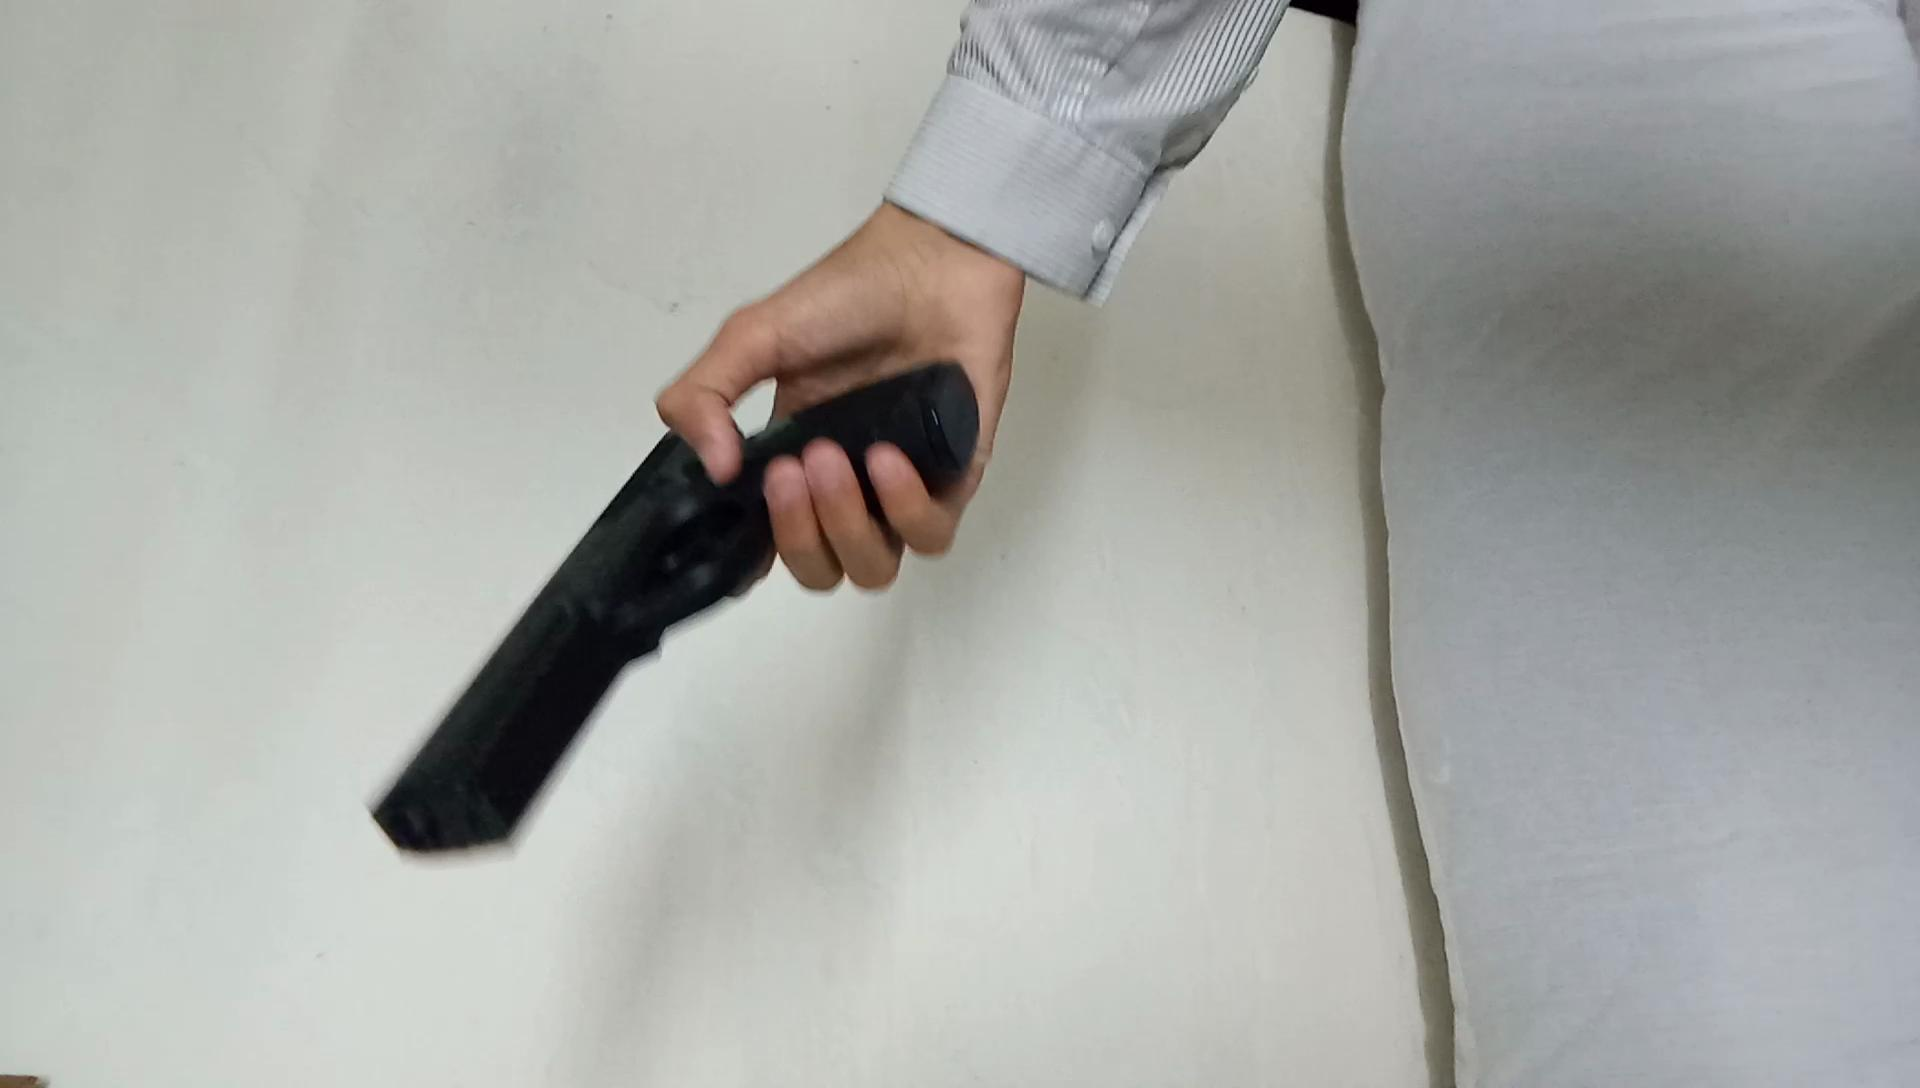weapon: (357, 343, 993, 866)
